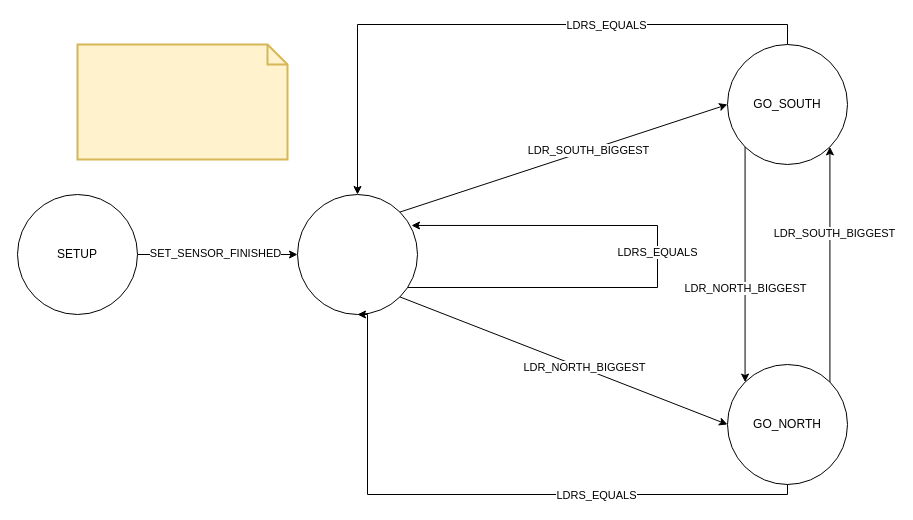
Some shapes in this 913 by 520 pixel diagram are drawn without their labels. Each missing label, with the centre of its shape:
All states can receive a reboot event of a physical button: (182,101)
BALANCE: (357,254)
